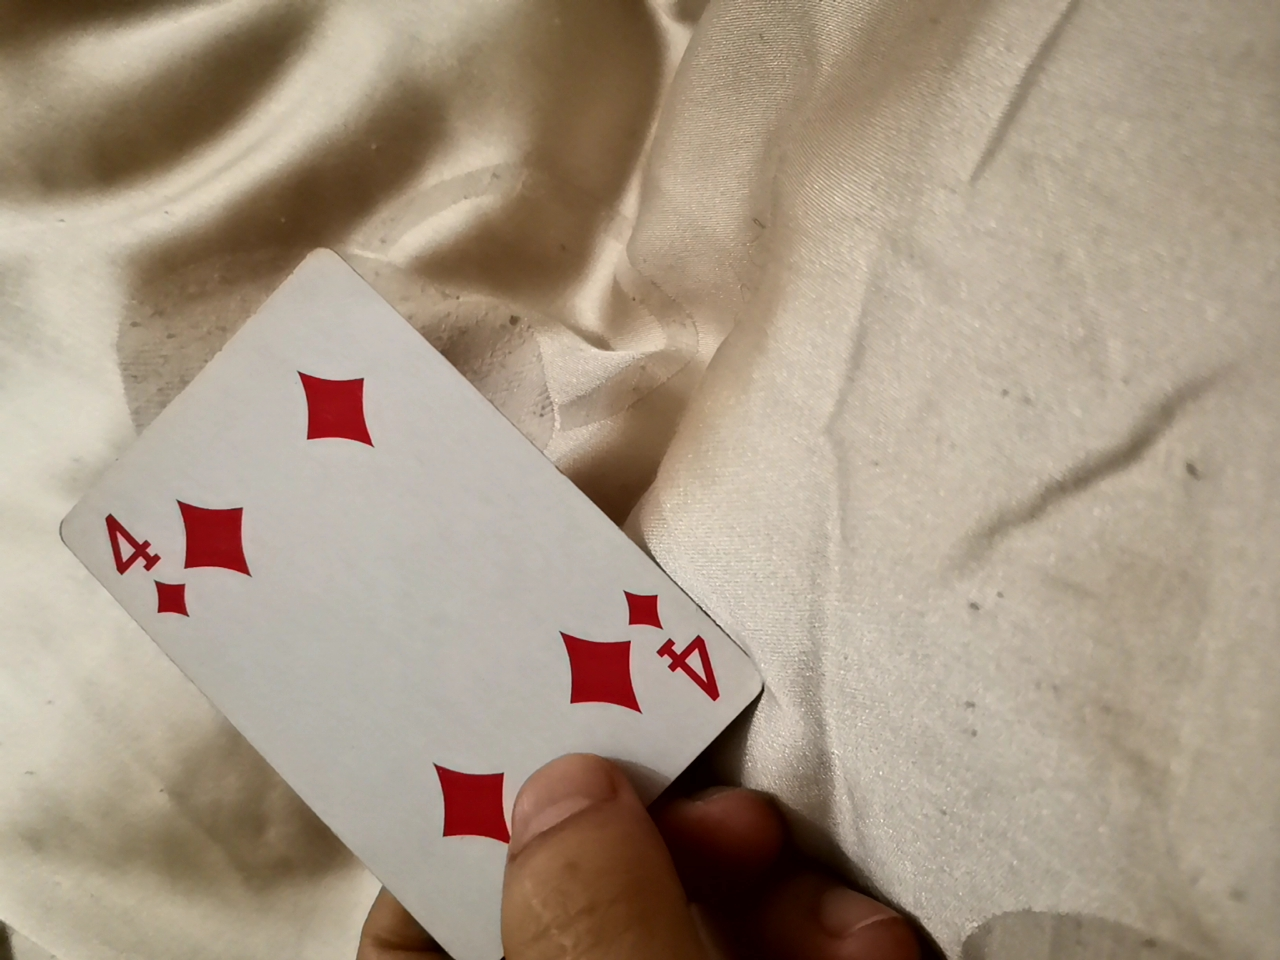fk 4: (57, 238, 776, 954)
